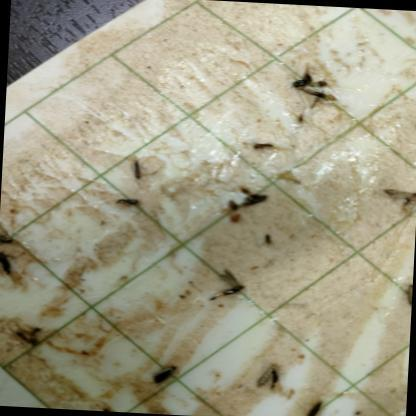prays_oleae: (375, 161, 416, 237), (0, 241, 14, 290), (404, 274, 412, 317)
